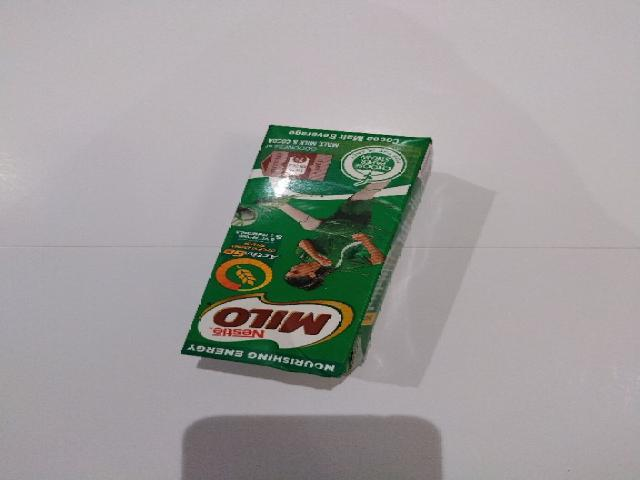drink_box: (182, 125, 432, 377)
